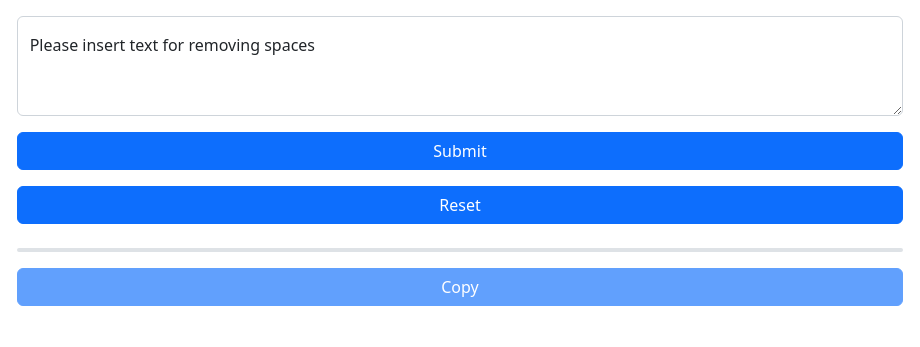
Scenario: FormComponent › should copy button be enabled when there is text in output
Type "hello world" into the text box with placeholder "Please insert text for removing spaces". click: (460, 66)
box: x1=17 y1=16 x2=903 y2=116
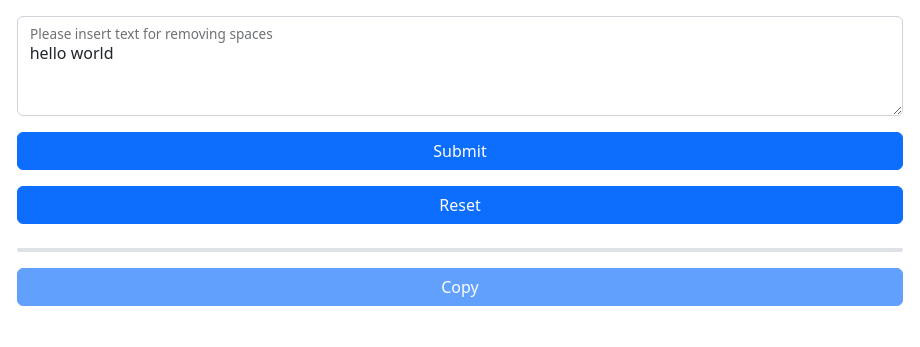
Click the button "Submit". click: click(460, 151)
box: x1=17 y1=132 x2=903 y2=170
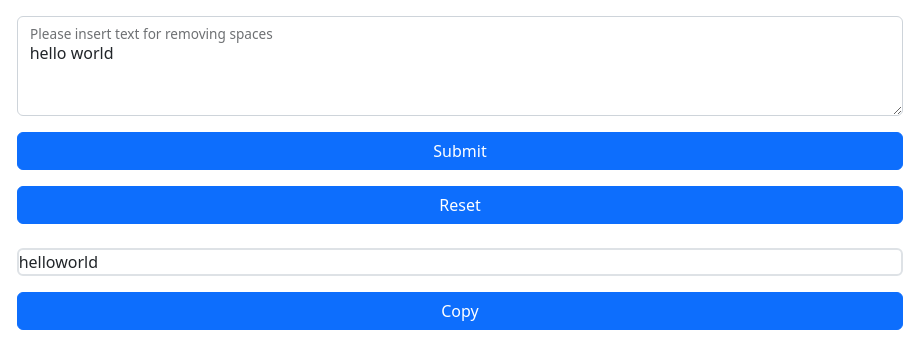
Result: the text "helloworld" is shown at x1=17 y1=248 x2=903 y2=276
Result: the button "Copy" is enabled at x1=17 y1=292 x2=903 y2=330
